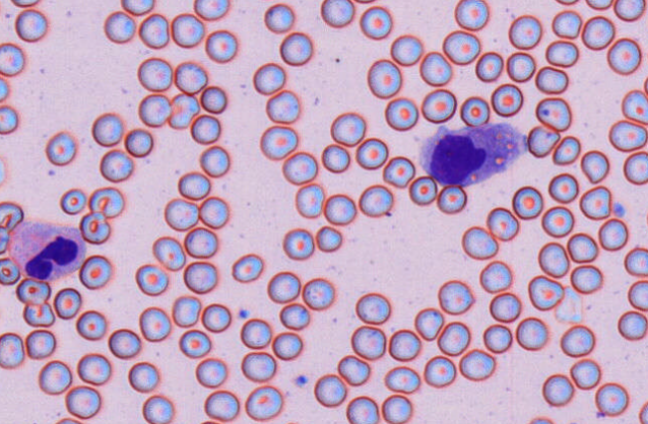GRAN: (6, 219, 87, 281)
MONO: (419, 123, 538, 187)
PLT: (293, 374, 310, 389), (613, 202, 628, 218), (237, 308, 252, 323)
RBC: (366, 58, 401, 98), (244, 384, 282, 420), (259, 125, 297, 160), (606, 37, 641, 75), (527, 274, 563, 310), (437, 279, 474, 314), (442, 30, 480, 64), (608, 119, 647, 152), (535, 96, 571, 131), (64, 385, 101, 419), (461, 225, 498, 259), (458, 348, 496, 381), (421, 88, 456, 123), (330, 111, 365, 146), (38, 359, 72, 395), (350, 325, 386, 359), (170, 12, 204, 47), (581, 15, 615, 50), (137, 57, 172, 91), (281, 151, 317, 184), (164, 197, 198, 231), (594, 382, 628, 416), (384, 97, 418, 131), (265, 89, 299, 123), (99, 148, 133, 182), (152, 235, 185, 270), (437, 321, 470, 356), (486, 206, 519, 241), (508, 14, 541, 49), (358, 184, 393, 217), (560, 324, 595, 357), (537, 241, 569, 277), (313, 373, 346, 407), (77, 352, 111, 385), (490, 83, 523, 117), (174, 60, 207, 94), (14, 8, 47, 42), (359, 5, 392, 39), (279, 31, 312, 65), (204, 389, 239, 421), (139, 306, 171, 341), (419, 51, 451, 86), (355, 292, 390, 324), (79, 254, 111, 289), (88, 186, 124, 217), (479, 260, 512, 293), (541, 373, 574, 406), (515, 316, 547, 350), (91, 112, 123, 146), (138, 93, 170, 127), (183, 261, 217, 293), (205, 29, 237, 63), (138, 13, 169, 48), (45, 130, 76, 165), (240, 351, 276, 381), (135, 263, 168, 295), (423, 355, 456, 387), (541, 205, 574, 237), (355, 137, 388, 169), (103, 10, 135, 43), (323, 193, 356, 225), (267, 271, 300, 303), (388, 328, 420, 361), (184, 226, 217, 258), (512, 185, 543, 219), (294, 183, 324, 218), (554, 286, 582, 323), (383, 365, 420, 393), (302, 277, 334, 309), (253, 62, 285, 94), (282, 227, 314, 259), (337, 354, 370, 385), (598, 217, 628, 251), (454, 0, 488, 30), (195, 357, 227, 388), (566, 232, 598, 263), (488, 291, 520, 322), (569, 358, 601, 389), (390, 34, 422, 65), (171, 294, 201, 327), (108, 328, 141, 358), (240, 317, 271, 348), (570, 264, 602, 294), (199, 145, 229, 177), (198, 196, 228, 228), (414, 307, 443, 340), (177, 171, 210, 200), (178, 329, 211, 358), (535, 65, 568, 94), (345, 395, 379, 423), (15, 277, 50, 304), (128, 361, 158, 392), (76, 309, 106, 340), (548, 172, 578, 203), (190, 113, 220, 144), (142, 394, 174, 423), (231, 253, 263, 282), (545, 39, 578, 67), (320, 0, 354, 27), (621, 89, 647, 124), (617, 310, 647, 340), (482, 323, 512, 353), (459, 96, 489, 126), (506, 51, 535, 82), (551, 9, 582, 38), (381, 394, 412, 423), (263, 3, 294, 32), (53, 287, 81, 319), (408, 175, 437, 205), (272, 331, 302, 360), (201, 303, 231, 332), (321, 143, 350, 173), (124, 127, 153, 157), (436, 184, 466, 213), (25, 329, 55, 358), (475, 51, 503, 82), (0, 332, 24, 368), (279, 302, 309, 330), (22, 301, 54, 327), (623, 151, 647, 185), (0, 42, 24, 76), (315, 225, 342, 252), (200, 85, 226, 113), (59, 188, 86, 214), (193, 0, 228, 20), (0, 201, 23, 231), (624, 246, 647, 276), (613, 0, 645, 21), (627, 280, 647, 311), (0, 257, 20, 285), (120, 0, 153, 15), (0, 105, 17, 134), (585, 0, 612, 10), (0, 226, 9, 254), (638, 400, 647, 423), (10, 0, 39, 7), (0, 76, 8, 101), (54, 417, 82, 423), (0, 156, 5, 184), (554, 0, 579, 5), (643, 75, 648, 97), (199, 419, 221, 424), (353, 0, 376, 4), (645, 206, 648, 228)
Schistocyte: (577, 185, 613, 220), (524, 126, 561, 160), (578, 150, 612, 185), (168, 94, 201, 130), (78, 212, 113, 244), (549, 135, 581, 167), (383, 156, 415, 187)
